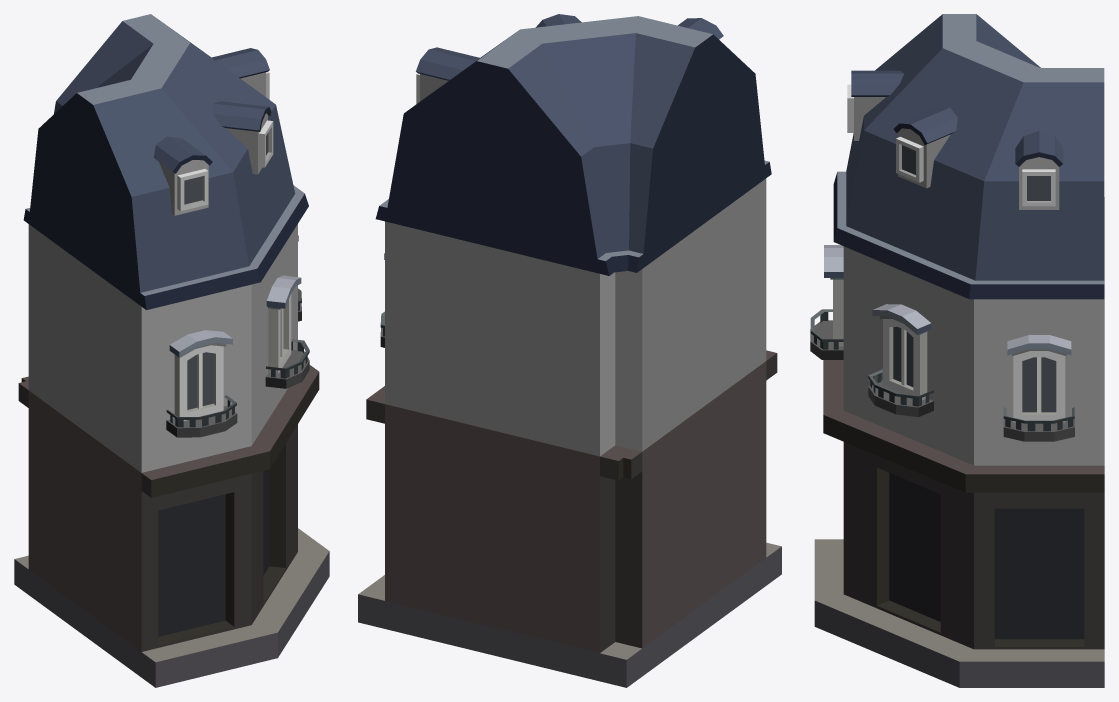
Rendered from TB_CITY_BD_R_RCorner_2_B.FBX.
The picture shows the model from 3 angles, left to right: view 1: azimuth 30°, elevation 25°; view 2: azimuth 150°, elevation 25°; view 3: azimuth 270°, elevation 25°; orthographic projection. The views are drawn at different scales.
Visible parts, largest first — view 1: TB_CITY_BD_R_RCorner_2_B; view 2: TB_CITY_BD_R_RCorner_2_B; view 3: TB_CITY_BD_R_RCorner_2_B.
Part boxes in pixels (x1,y1,x2,y2): TB_CITY_BD_R_RCorner_2_B: [14, 14, 329, 687]; TB_CITY_BD_R_RCorner_2_B: [358, 14, 781, 687]; TB_CITY_BD_R_RCorner_2_B: [810, 14, 1104, 687].
Size of the model in its own units: 8.11 by 16.78 by 8.11.
